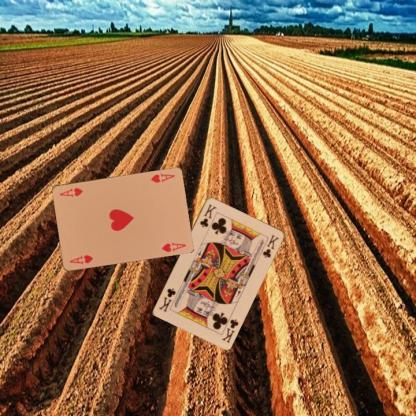Ah: (148, 170, 176, 184), (67, 252, 94, 266)
Kc: (197, 201, 218, 229), (219, 316, 240, 344)
